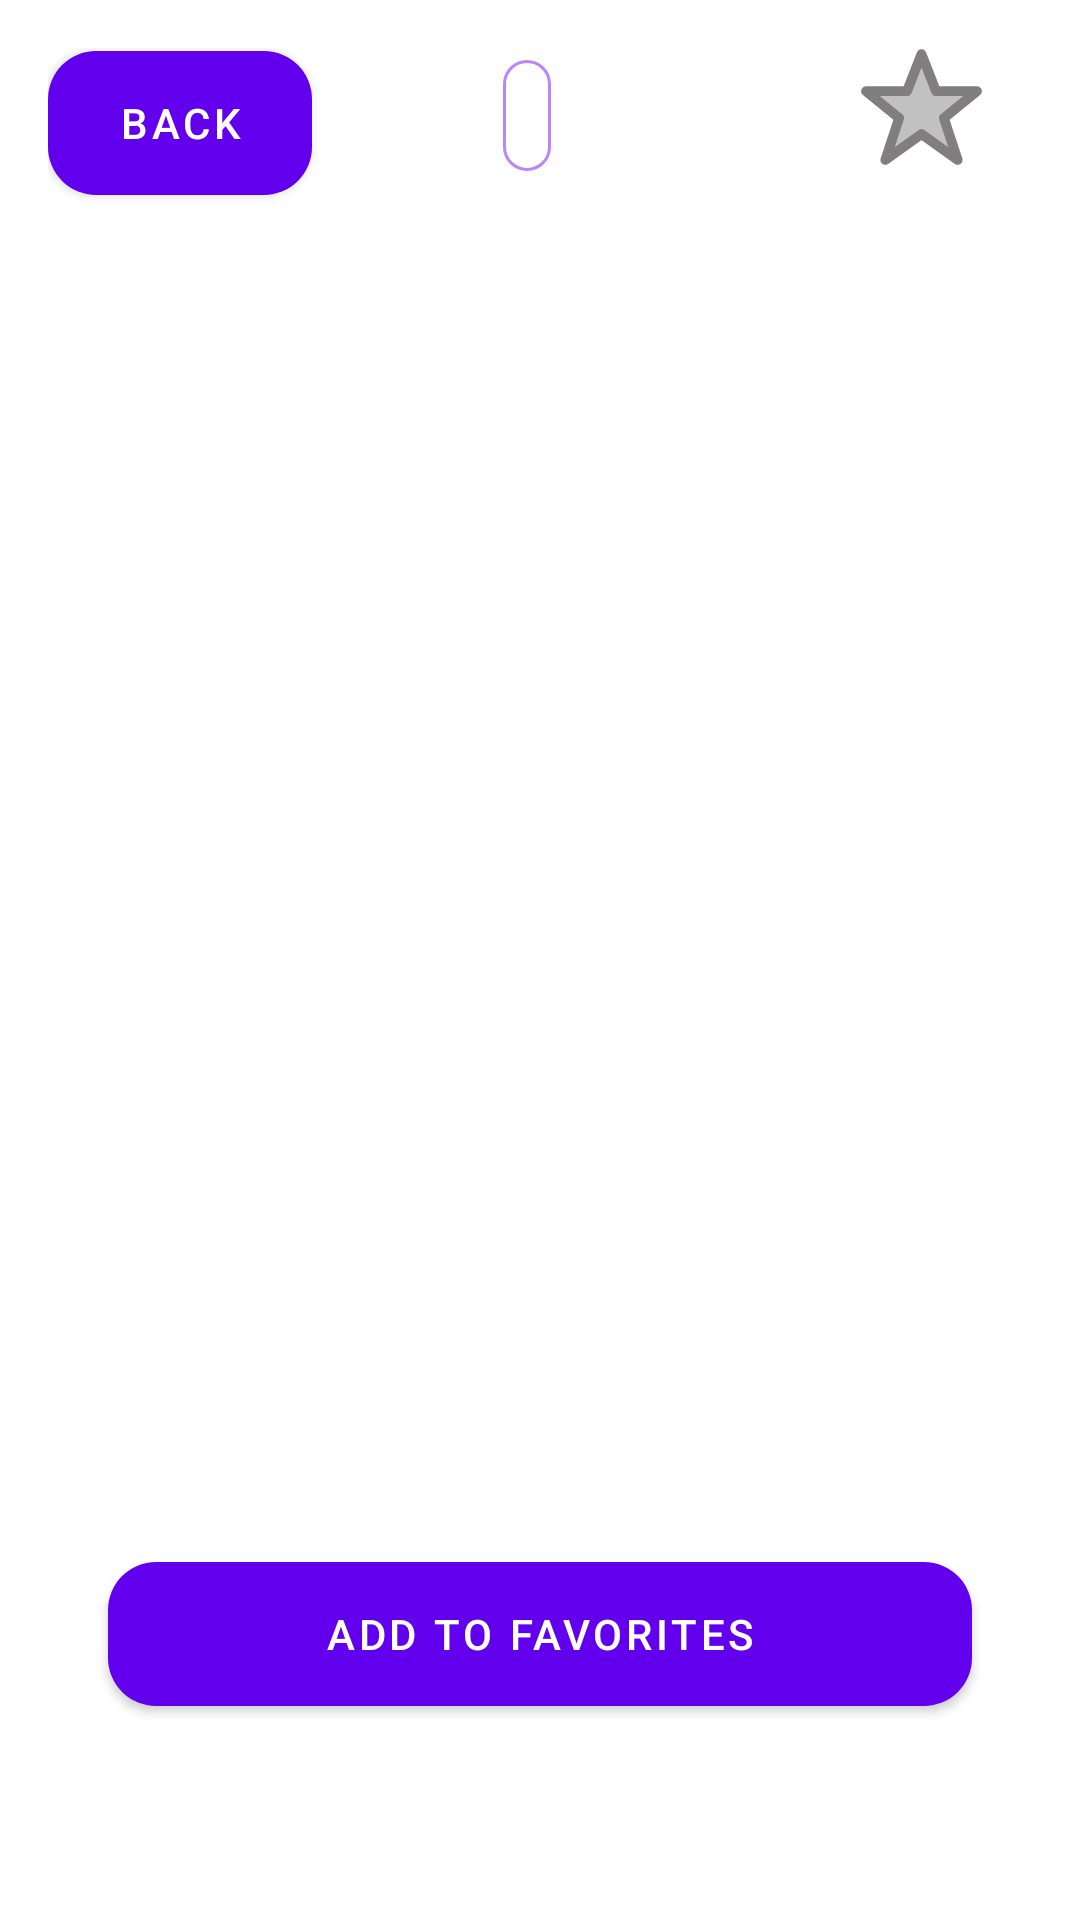

Where icons sit on this 1080*1920 app screen, as (x1=x1, y1=y1, x2=x2, y2=y2):
Favorite: (x1=861, y1=49, x2=982, y2=165)
